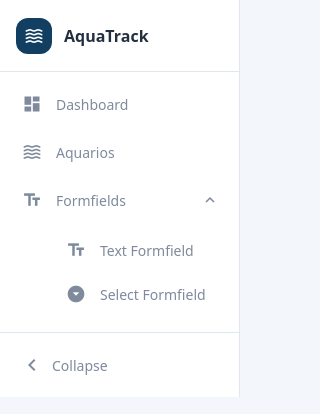
Test: NavMenuComponent › should hide item labels when collapsed
Click the button with class "nav-menu__toggle" at (120, 365), box [8,341,231,389]
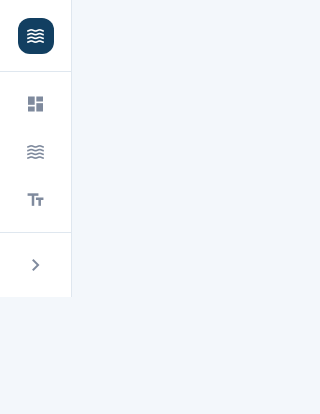
expect no elements with class "nav-menu__link-label" are shown: met
expect no links with class "nav-menu__sublink" are shown: met
